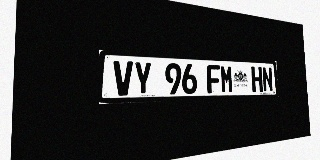6: (182, 63, 197, 94)
9: (165, 63, 182, 94)
F: (206, 65, 221, 93)
H: (251, 66, 263, 92)
M: (220, 65, 233, 93)
N: (262, 67, 273, 92)
V: (113, 61, 133, 96)
Y: (134, 61, 152, 95)
